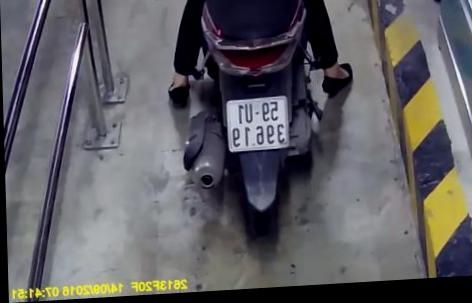License_Plate: (222, 92, 296, 155)
